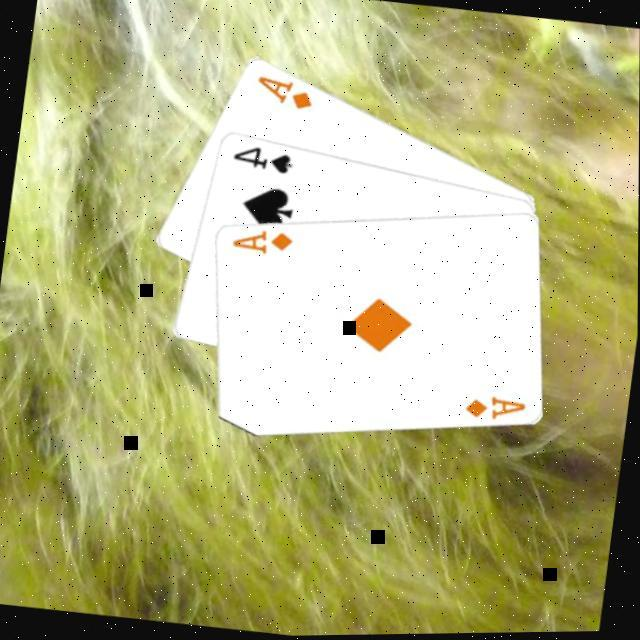4S: (227, 137, 296, 177)
AD: (250, 68, 318, 113), (459, 386, 528, 426), (227, 221, 296, 259)
